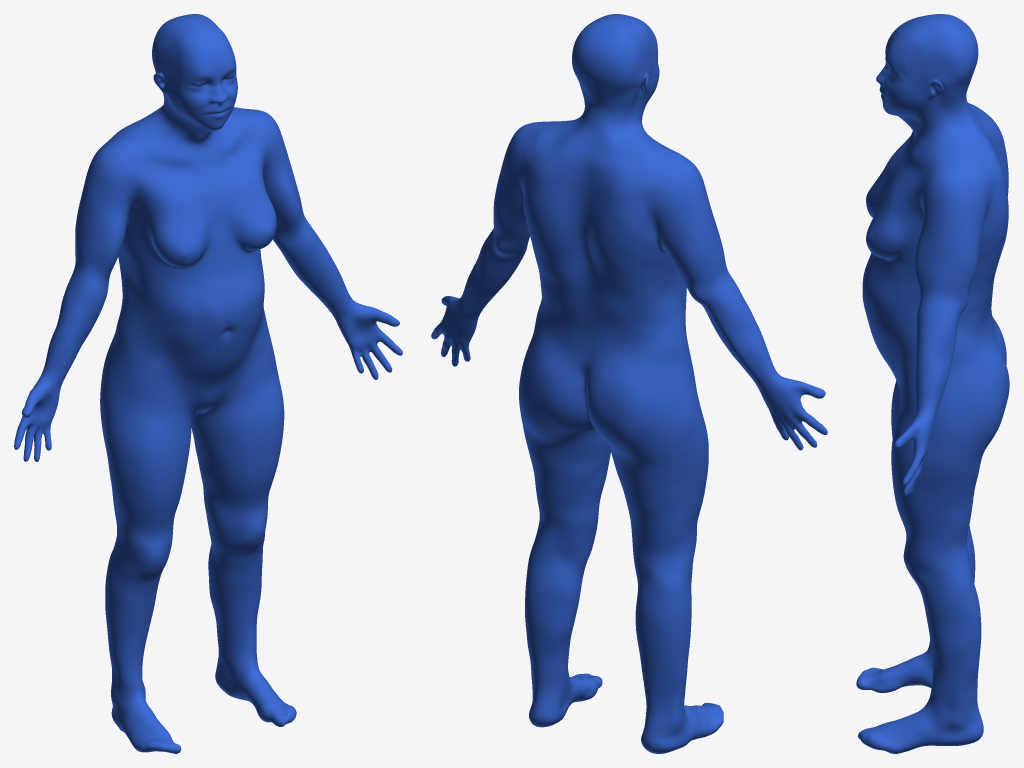
Rendered from body-female.glb.
3 renders of one model, left to right at view 1: azimuth 30°, elevation 25°; view 2: azimuth 150°, elevation 25°; view 3: azimuth 270°, elevation 25°, orthographic.
Parts seen in each view (by area): view 1: VH_F_skin; view 2: VH_F_skin; view 3: VH_F_skin.
Part boxes in pixels (left/top/right/bottom): VH_F_skin: left=14, top=14, right=402, bottom=753; VH_F_skin: left=431, top=14, right=827, bottom=753; VH_F_skin: left=856, top=14, right=1009, bottom=753.
Size of the model in its own units: 0.9674 by 1.67 by 0.3293.
